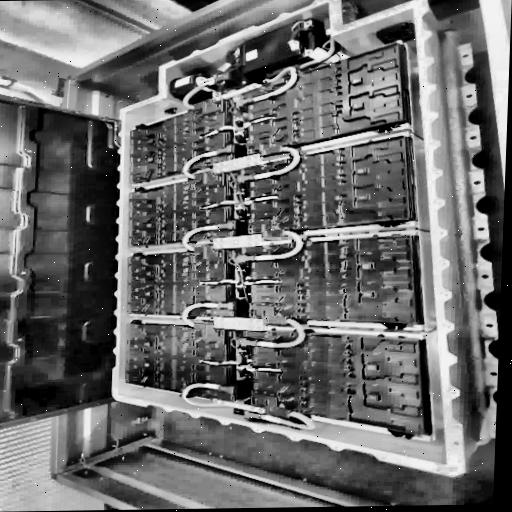high_volt_cable: (174, 381, 324, 432), (233, 62, 301, 109), (238, 311, 314, 350), (234, 225, 310, 263), (238, 142, 302, 185), (178, 218, 240, 255), (180, 142, 235, 182), (176, 69, 227, 110), (176, 299, 236, 329)
